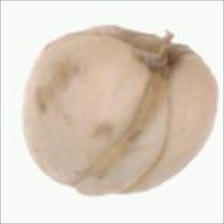L5: (75, 72, 174, 200), (112, 26, 199, 84)
L6: (23, 24, 220, 198)
